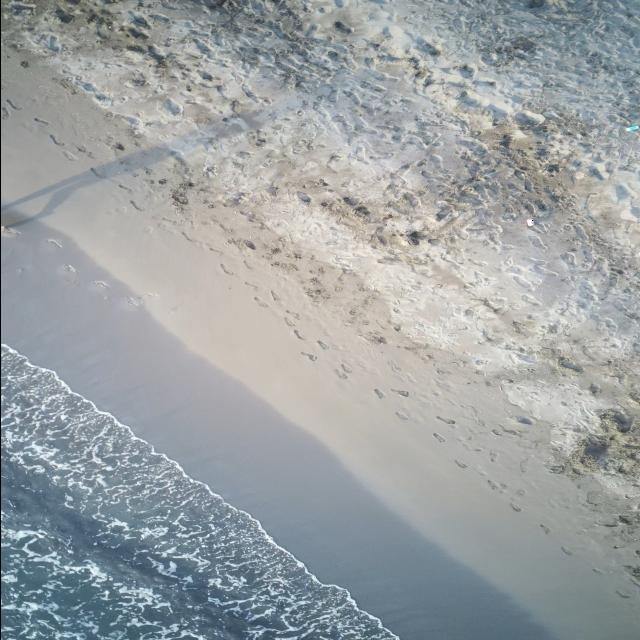Garbage: (627, 123, 639, 131), (527, 218, 533, 226)
